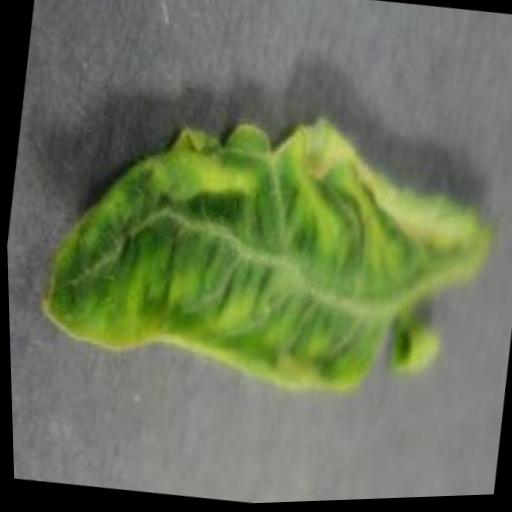Yellow Leaf Curl Virus: (23, 78, 508, 421)
